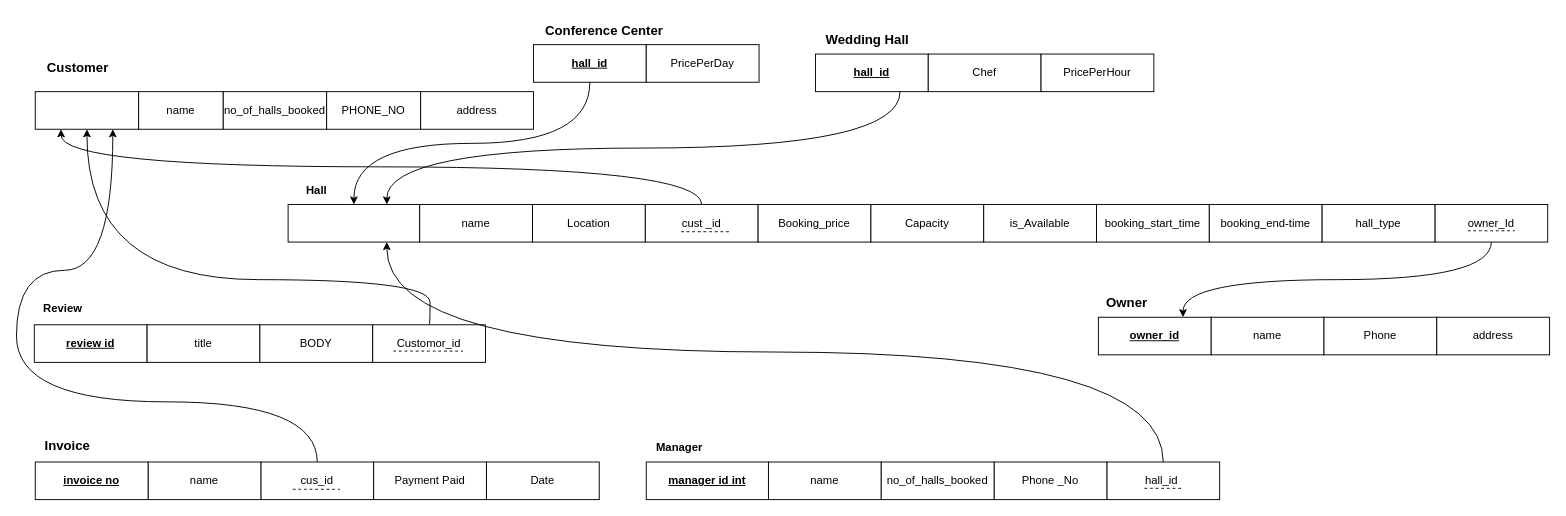
This 1566x516 diagram has some shape labels left out. Each missing label, with the centre of its shape:
Customer ID: point 86,110
Hall id: point 353,223
